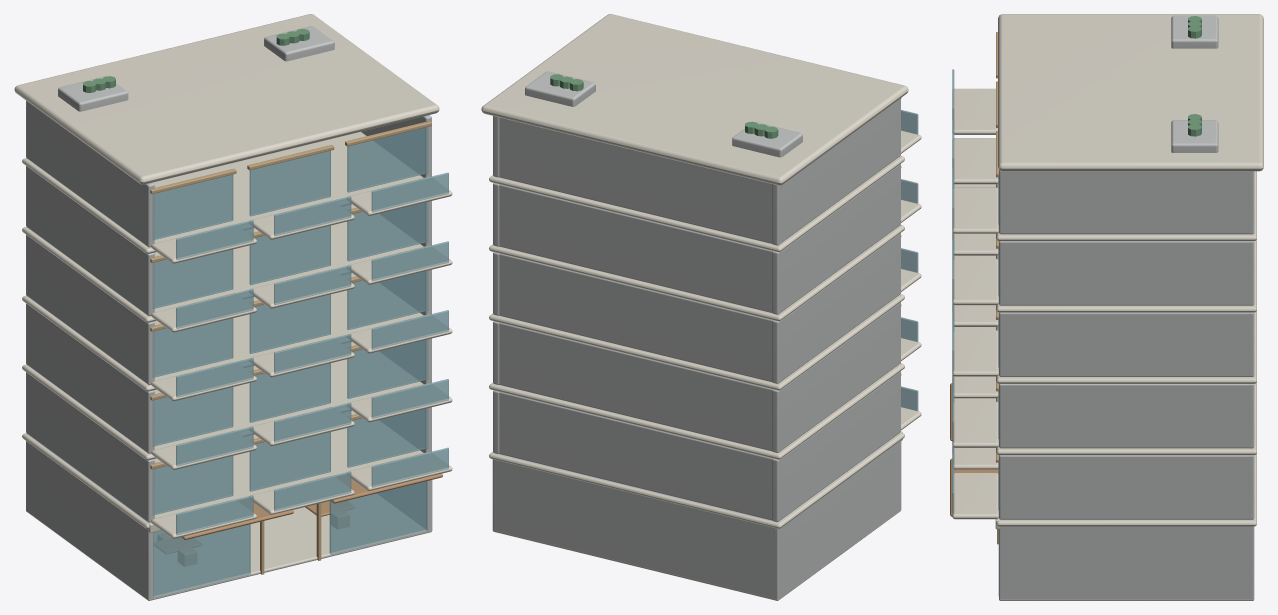
The model's file is mixed-2.glb.
3 views of the same model, side by side, from view 1: azimuth 30°, elevation 25°; view 2: azimuth 150°, elevation 25°; view 3: azimuth 270°, elevation 25° (orthographic). The views are drawn at different scales.
Visible parts, largest first — view 1: facility textured limestone, facility real building glazing, facility warm architectural concrete, facility brushed bronze, facility oak and walnut, facility live planting; view 2: facility warm architectural concrete, facility textured limestone, facility real building glazing, facility live planting; view 3: facility warm architectural concrete, facility textured limestone, facility real building glazing, facility live planting, facility oak and walnut, facility brushed bronze.
Boxes of the visible parts, bbox=[...] form: facility textured limestone: bbox=[14, 14, 452, 600]; facility real building glazing: bbox=[152, 127, 448, 598]; facility warm architectural concrete: bbox=[26, 26, 432, 600]; facility brushed bronze: bbox=[150, 121, 431, 574]; facility oak and walnut: bbox=[154, 473, 442, 553]; facility live planting: bbox=[83, 29, 309, 92]; facility warm architectural concrete: bbox=[492, 71, 901, 599]; facility textured limestone: bbox=[481, 14, 921, 600]; facility real building glazing: bbox=[901, 110, 918, 410]; facility live planting: bbox=[550, 74, 778, 138]; facility warm architectural concrete: bbox=[999, 15, 1254, 600]; facility textured limestone: bbox=[952, 14, 1263, 600]; facility real building glazing: bbox=[952, 69, 998, 596]; facility live planting: bbox=[1188, 16, 1201, 136]; facility oak and walnut: bbox=[950, 383, 998, 516]; facility brushed bronze: bbox=[996, 32, 998, 544].
Bounding box in the file's own units: 16.9 × 23.68 × 14.75.
